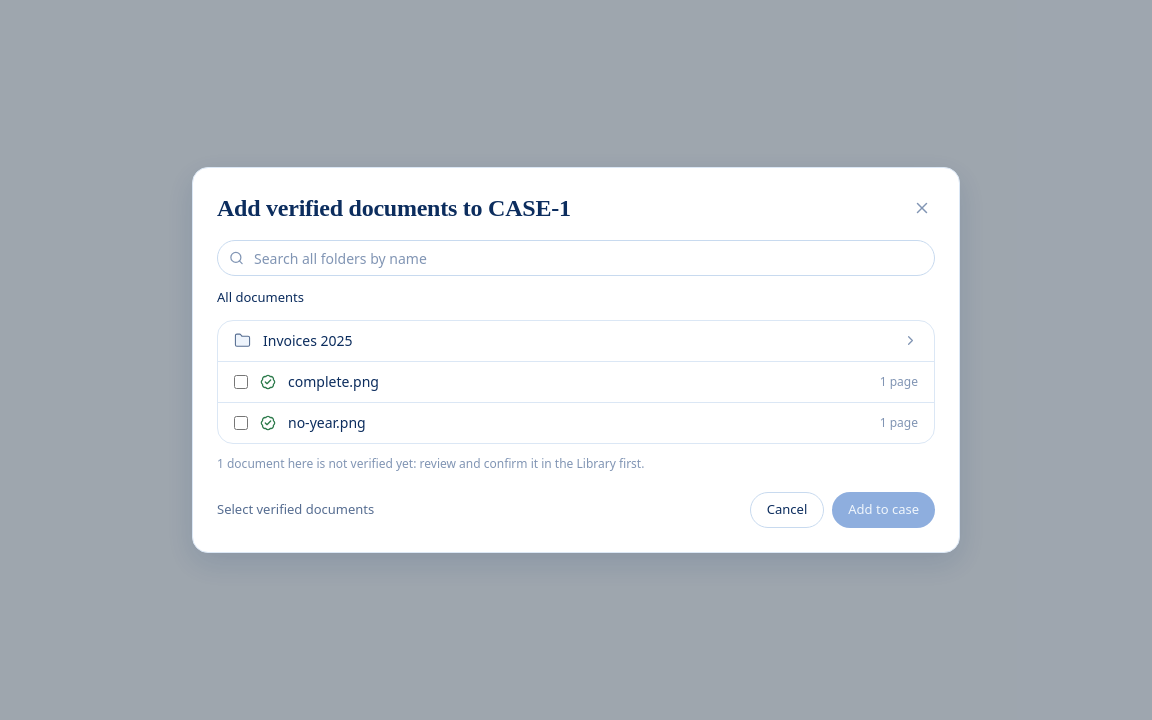
VerifiedDocumentPicker › browses into a folder
Click the button "Invoices 2025". click: (308, 340)
box: x1=218 y1=321 x2=934 y2=361
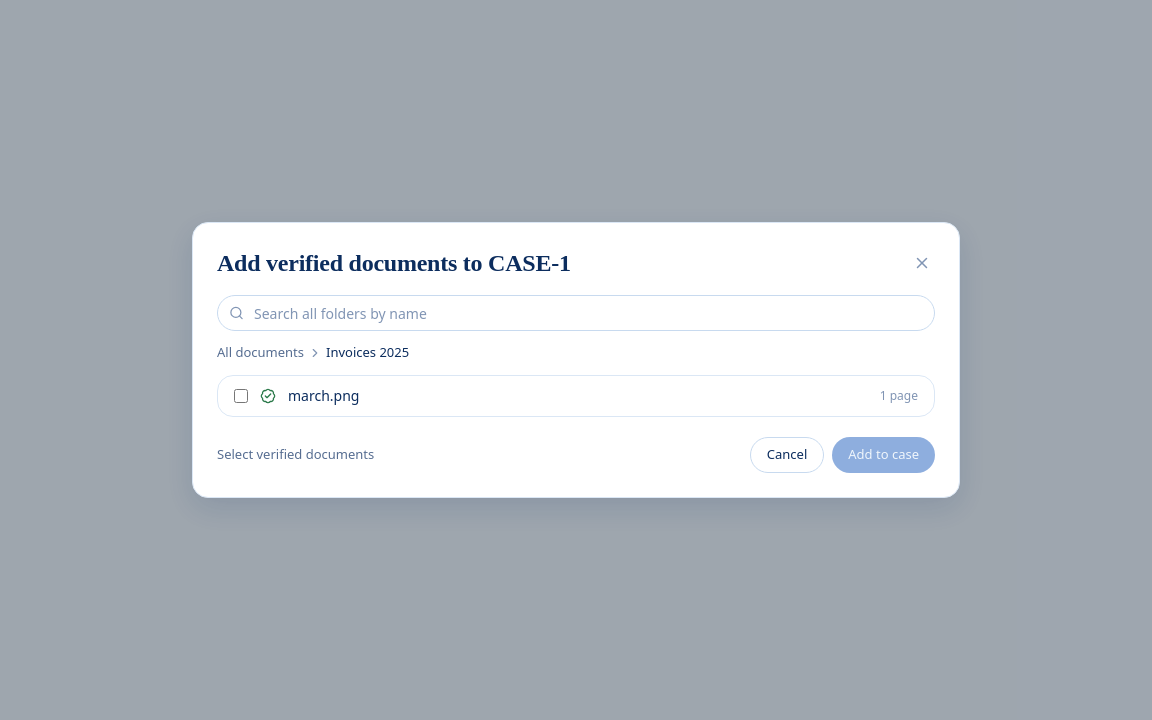
Result: the text "march.png" is shown at x1=288 y1=386 x2=360 y2=405
